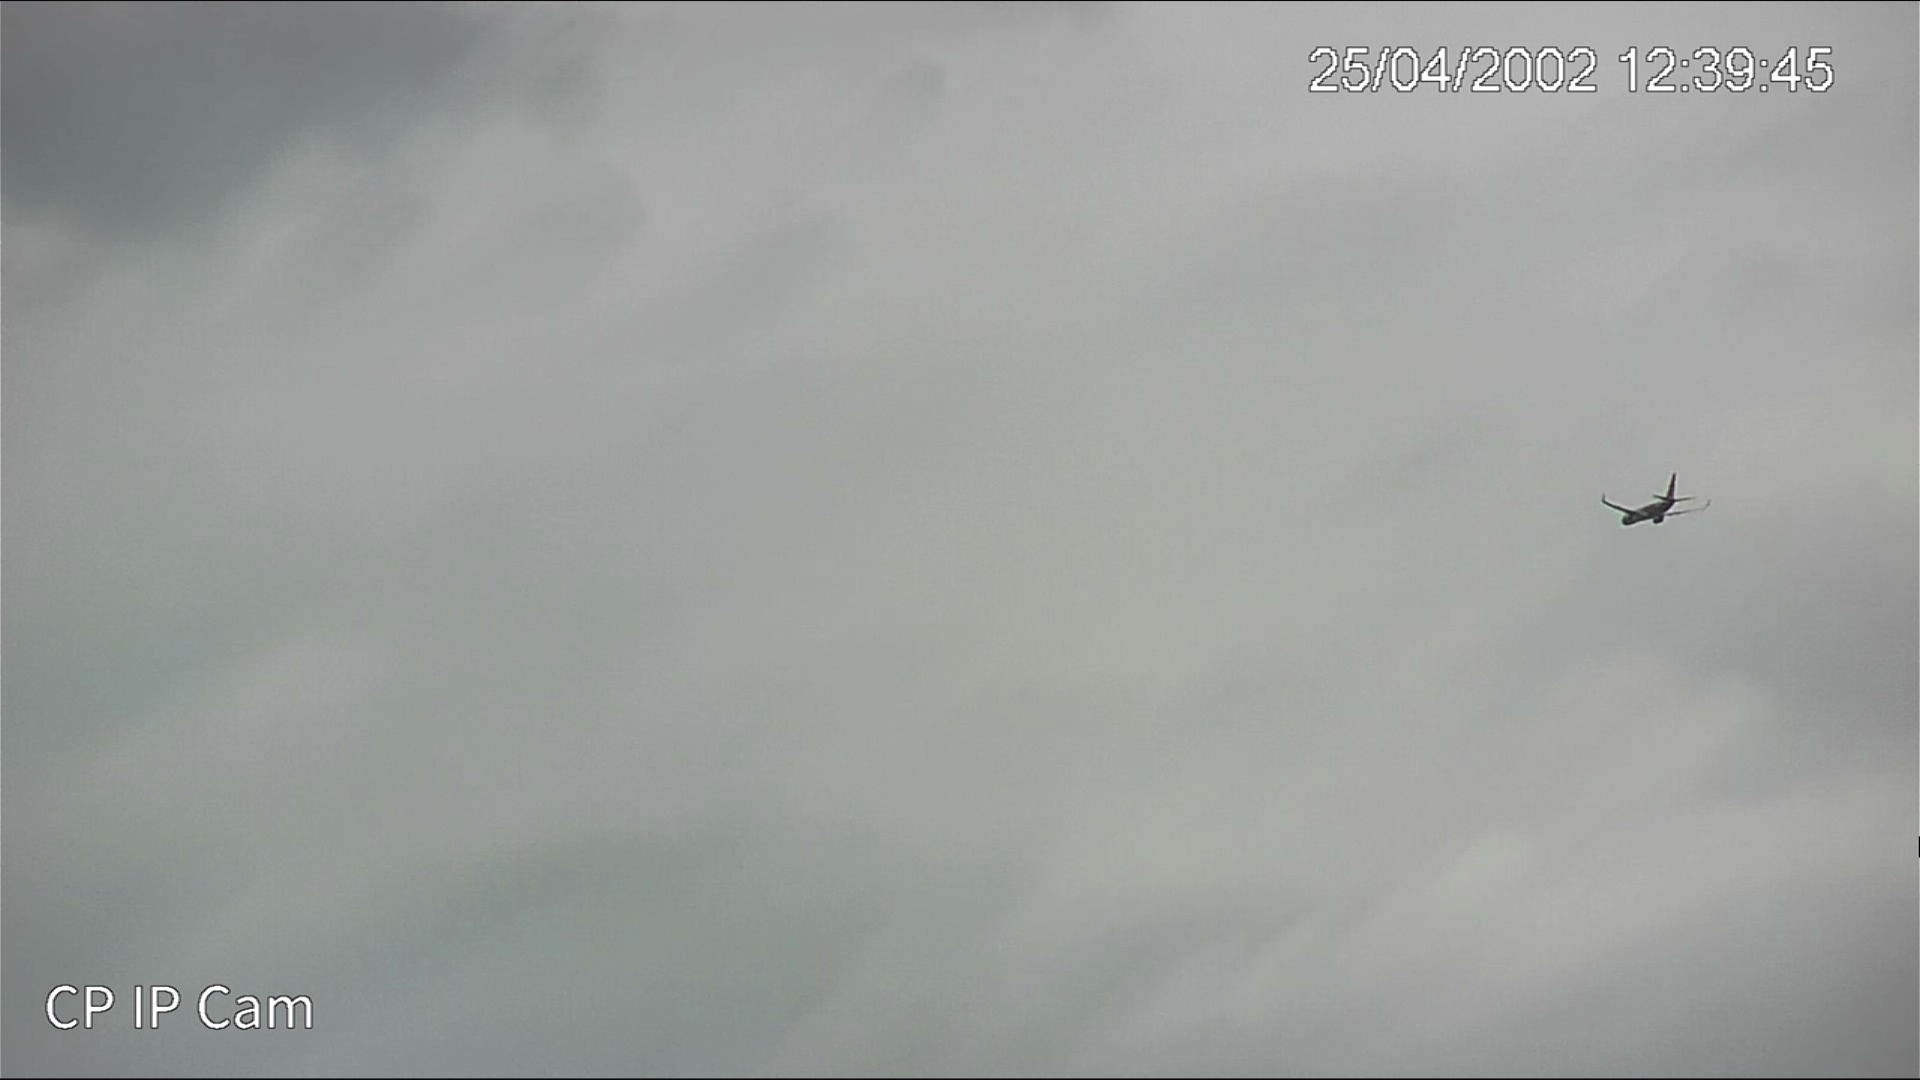SU_30: (1607, 468, 1702, 539)
